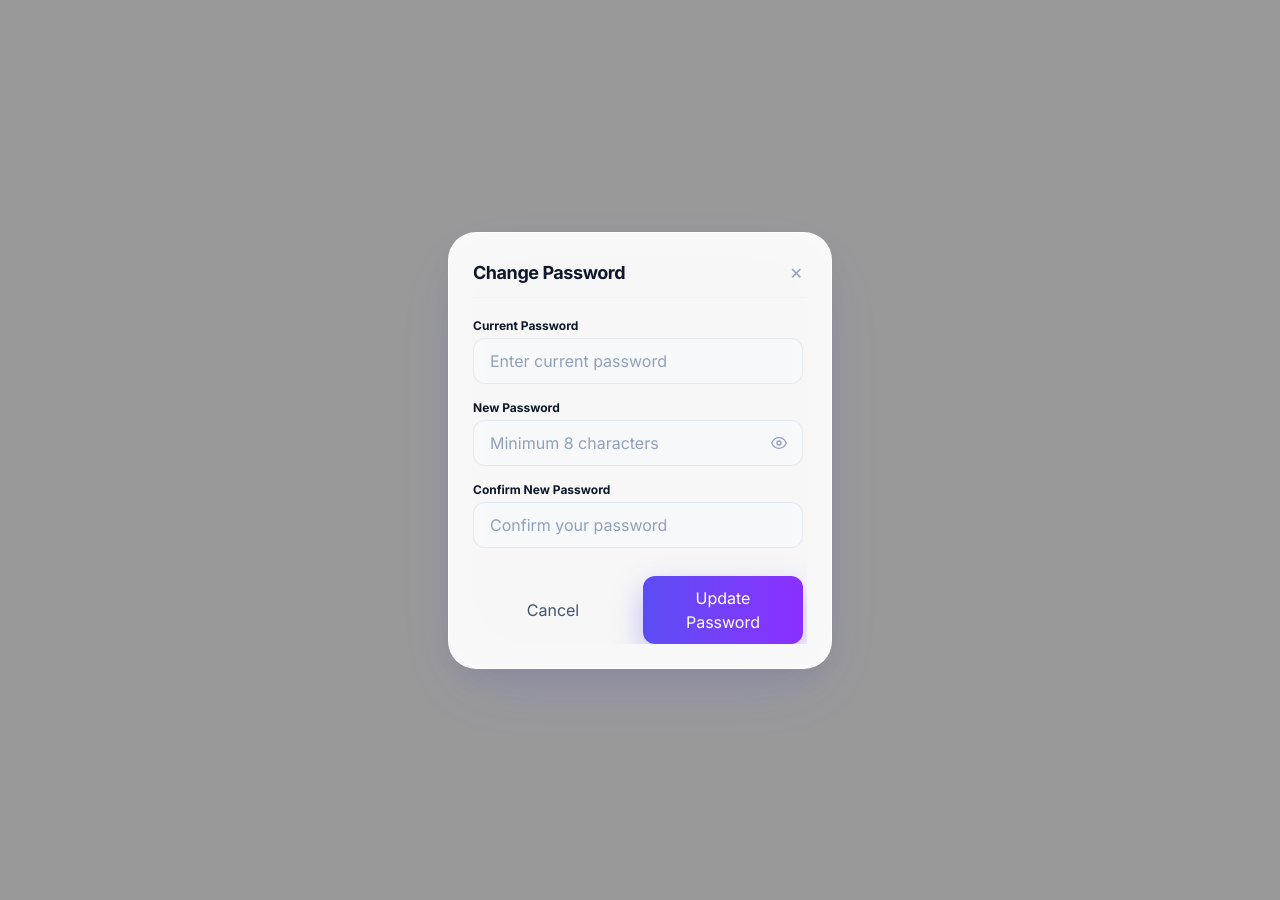
Test: ChangePasswordModal › displays server error accessibly on failed change
The image size is (1280, 900).
Type "wrongold123" into the password field labelled "Current Password" at (638, 360), box [473,338,803,384]
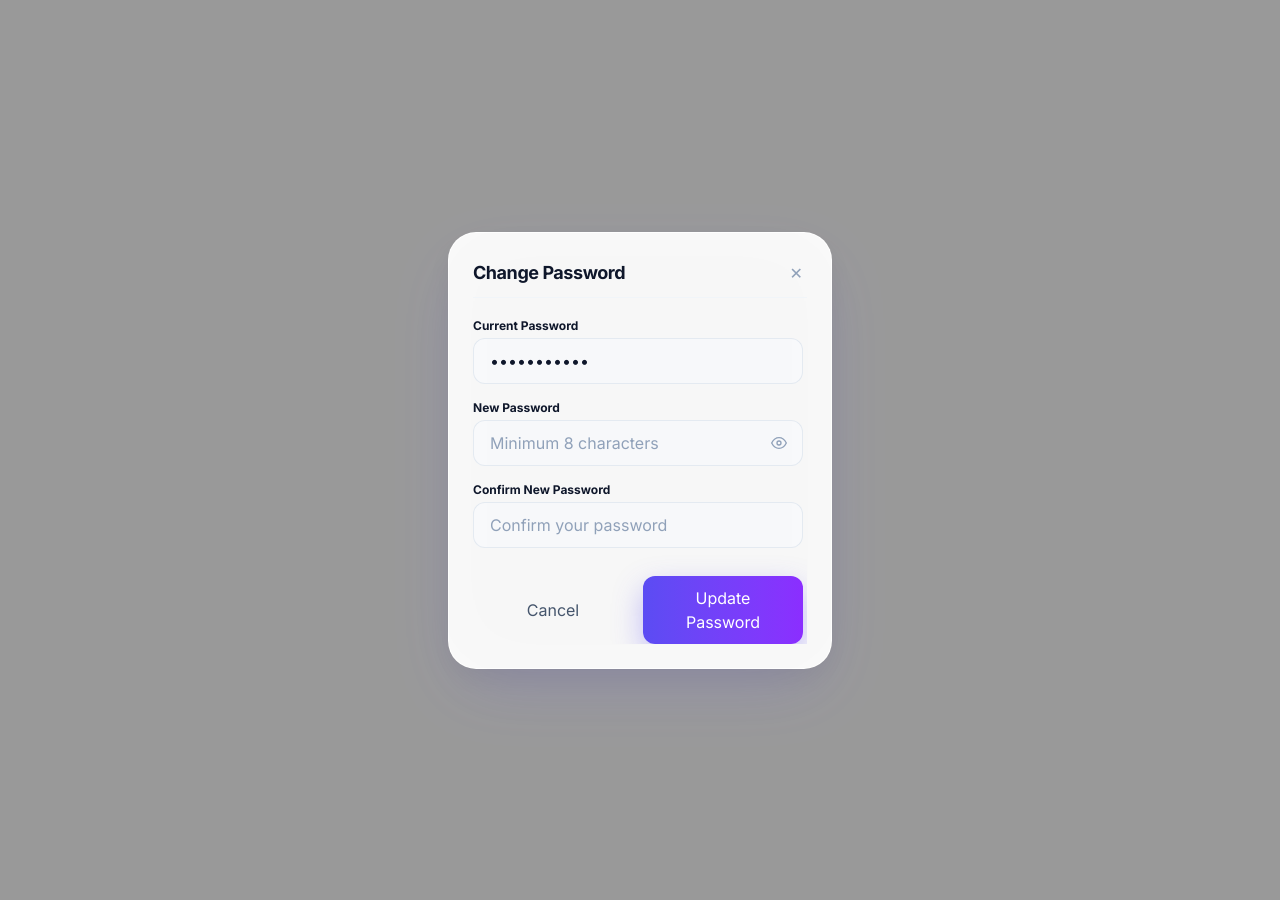
Type "ValidPassword1" into the password field labelled "New Password" at (638, 442), box [473,420,803,466]
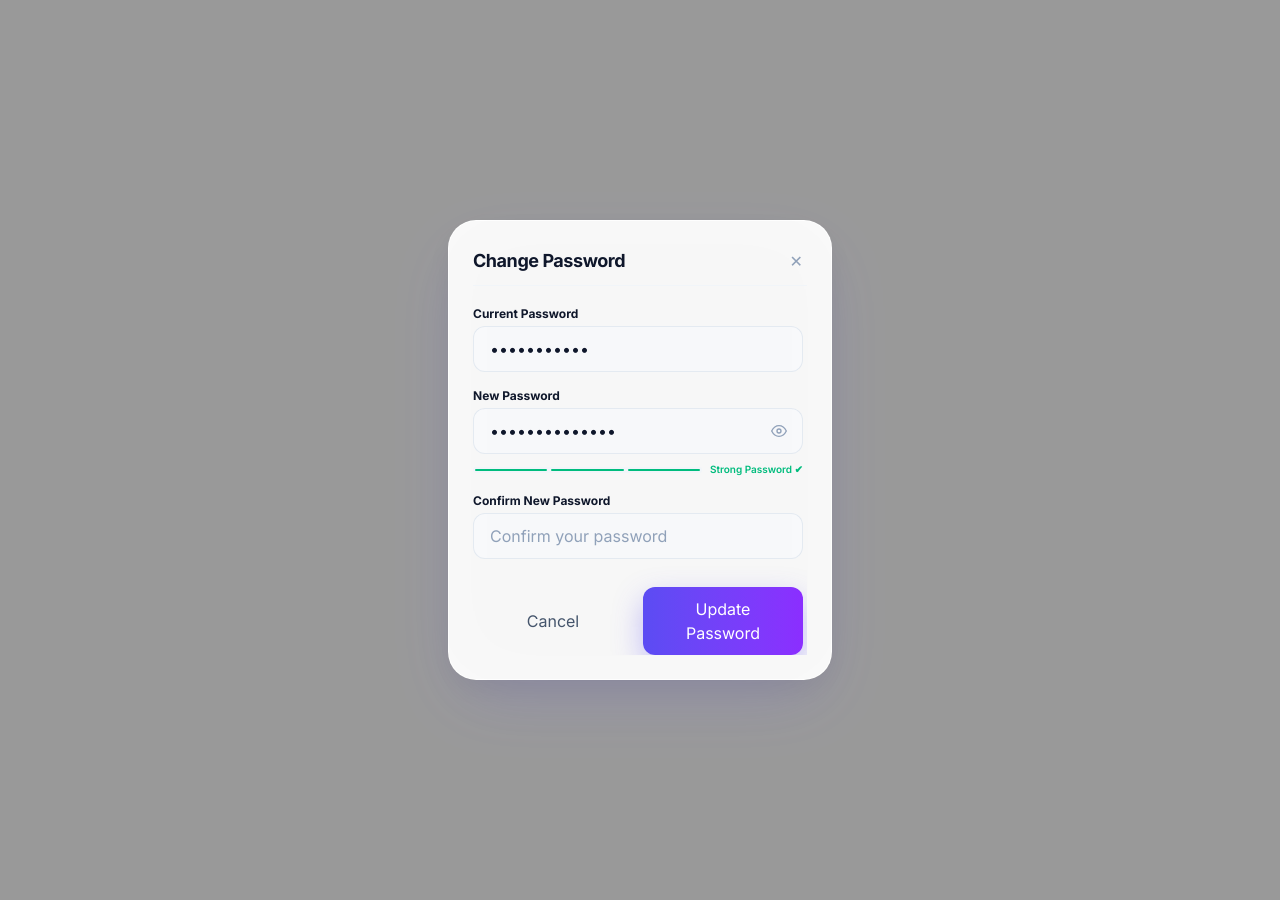
Type "ValidPassword1" into the password field labelled "Confirm New Password" at (638, 536), box [473,513,803,559]
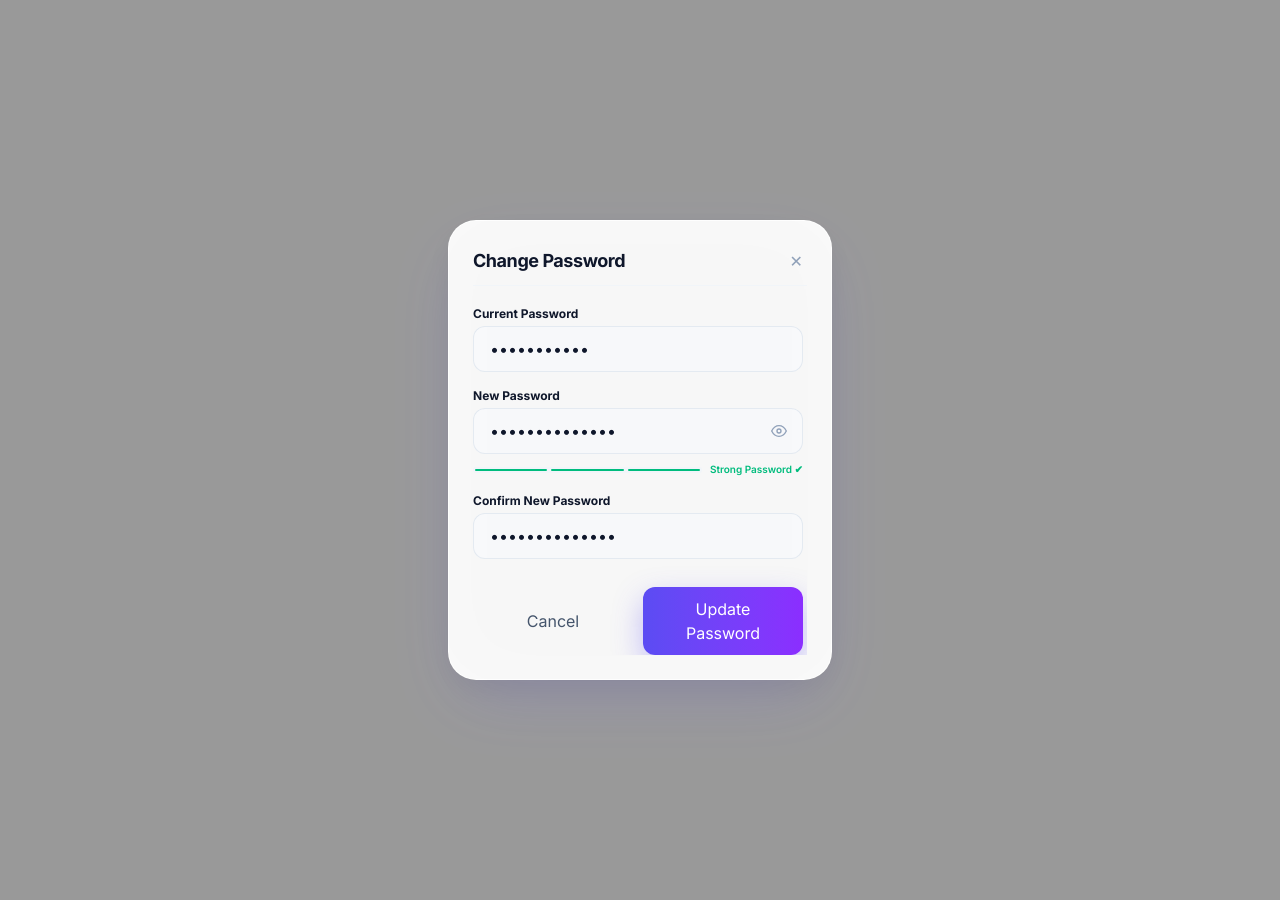
Submit the form named "Update Password", box [473,302,803,655]
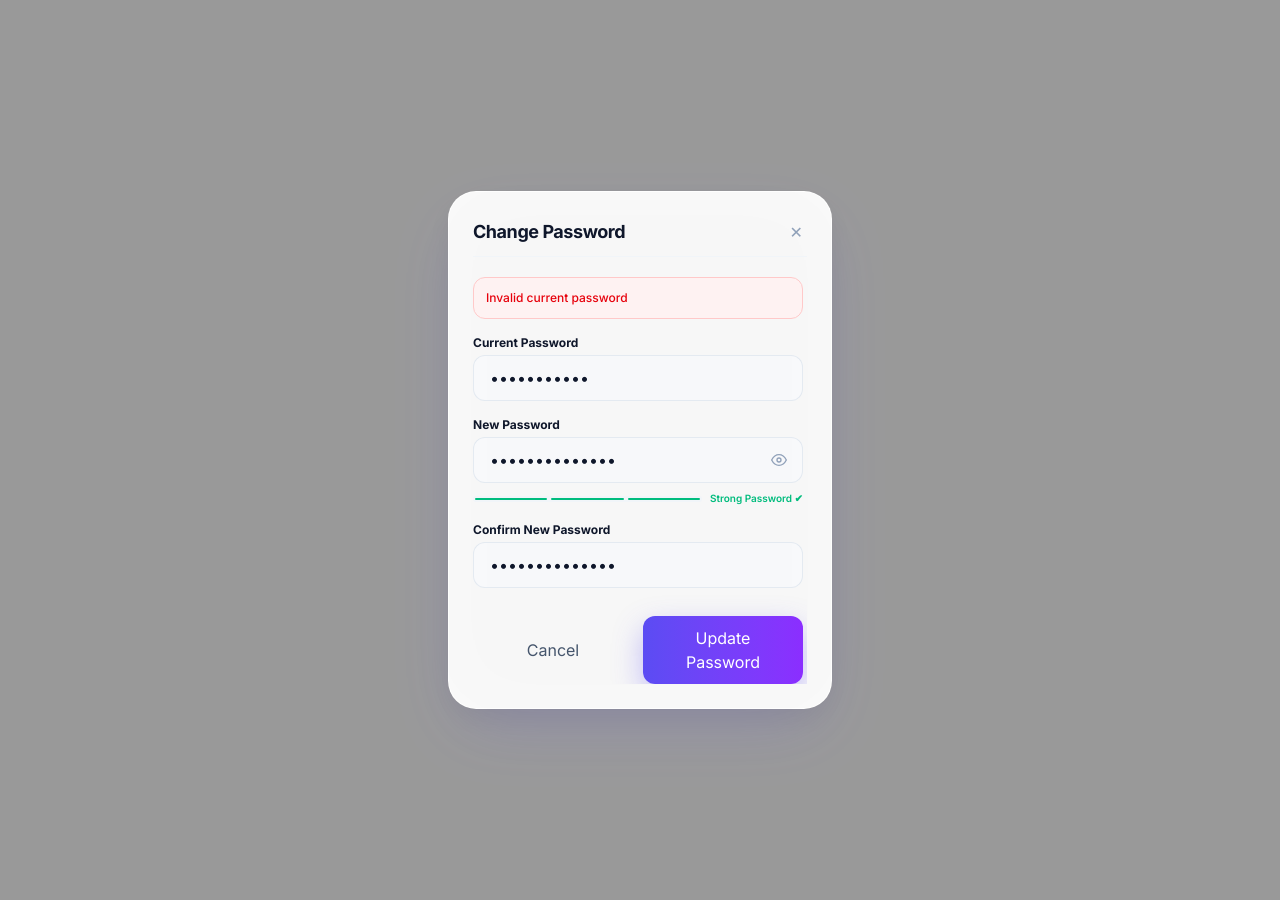
Check: the message reads "Invalid current password", box [486,290,628,305]
